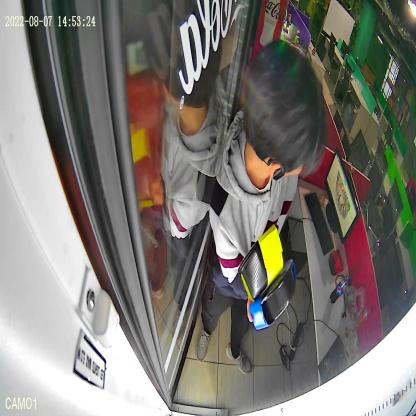blue: (249, 258, 296, 332)
yellow: (237, 224, 284, 303)
